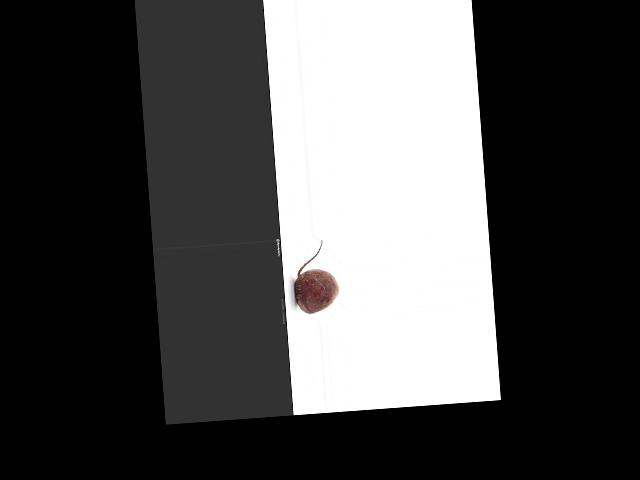beet: (291, 239, 339, 315)
